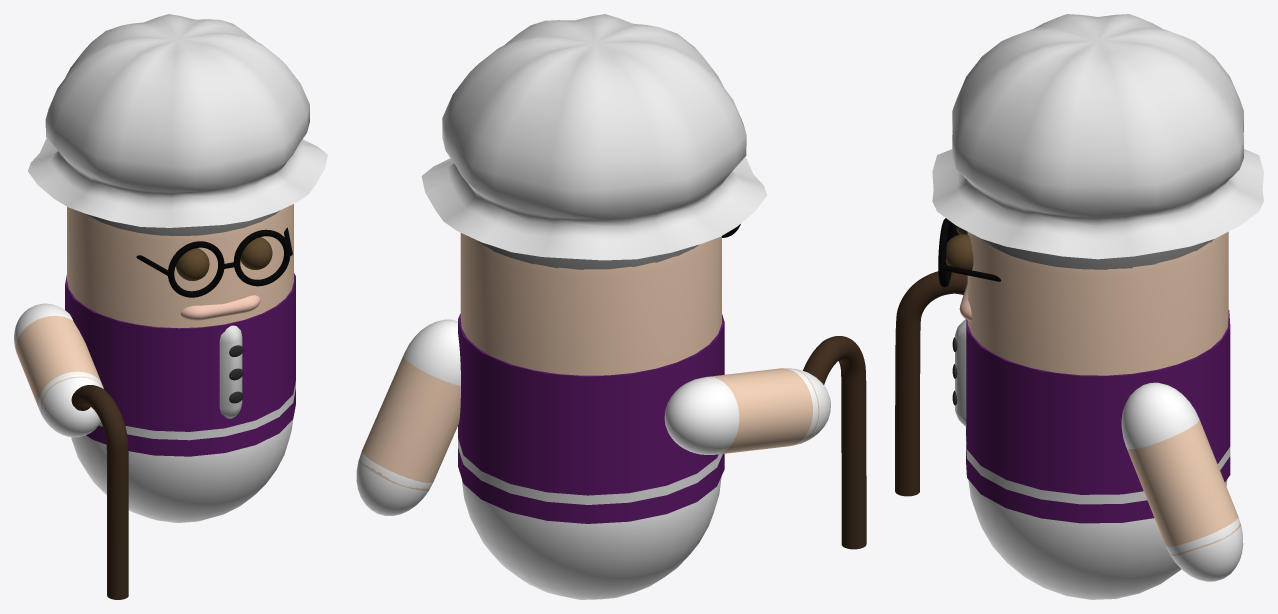
The model's file is elder 1.fbx.
3 renders of one model, left to right at view 1: azimuth 30°, elevation 25°; view 2: azimuth 150°, elevation 25°; view 3: azimuth 270°, elevation 25°, orthographic. The views are drawn at different scales.
Parts seen in each view (by area): view 1: GrannyHat, Shirt, Body, Shorts, WalkingCane, LeftArm, PurpleStripe, LeftGlove, Glasses, Buttons, WhiteStripe, Hair (+4 smaller); view 2: GrannyHat, Shirt, Body, Shorts, RightArm, WalkingCane, LeftArm, PurpleStripe, LeftSleeve, RightGlove, WhiteStripe, RightSleeve (+2 smaller); view 3: GrannyHat, Body, Shirt, Shorts, RightArm, WalkingCane, PurpleStripe, RightSleeve, RightGlove, Hair, WhiteStripe, Buttons (+2 smaller).
Boxes of the visible parts, left/top/right/bottom form: GrannyHat: left=28, top=14, right=327, bottom=227; Shirt: left=65, top=273, right=295, bottom=431; Body: left=67, top=204, right=293, bottom=328; Shorts: left=71, top=420, right=292, bottom=522; WalkingCane: left=71, top=385, right=128, bottom=599; LeftArm: left=16, top=315, right=103, bottom=416; PurpleStripe: left=86, top=389, right=295, bottom=456; LeftGlove: left=38, top=371, right=103, bottom=437; Glasses: left=136, top=227, right=292, bottom=297; Buttons: left=219, top=325, right=242, bottom=418; WhiteStripe: left=99, top=381, right=295, bottom=440; Hair: left=86, top=210, right=280, bottom=235; GrannyHat: left=421, top=14, right=767, bottom=260; Shirt: left=458, top=313, right=724, bottom=495; Body: left=460, top=233, right=721, bottom=375; Shorts: left=462, top=476, right=721, bottom=599; RightArm: left=358, top=355, right=460, bottom=491; WalkingCane: left=803, top=336, right=866, bottom=549; LeftArm: left=708, top=368, right=819, bottom=454; PurpleStripe: left=458, top=448, right=724, bottom=523; LeftSleeve: left=664, top=376, right=739, bottom=454; RightGlove: left=356, top=451, right=433, bottom=515; WhiteStripe: left=458, top=439, right=722, bottom=504; RightSleeve: left=403, top=319, right=460, bottom=386; GrannyHat: left=932, top=14, right=1263, bottom=259; Body: left=967, top=231, right=1228, bottom=375; Shirt: left=966, top=310, right=1230, bottom=494; Shorts: left=968, top=479, right=1227, bottom=599; RightArm: left=1127, top=419, right=1241, bottom=555; WalkingCane: left=895, top=271, right=967, bottom=496; PurpleStripe: left=966, top=446, right=1230, bottom=523; RightSleeve: left=1121, top=382, right=1199, bottom=449; RightGlove: left=1166, top=517, right=1243, bottom=581; Hair: left=981, top=238, right=1213, bottom=269; WhiteStripe: left=966, top=436, right=1230, bottom=504; Buttons: left=955, top=319, right=966, bottom=426.
Size of the model in its own units: 164 by 231 by 141.
